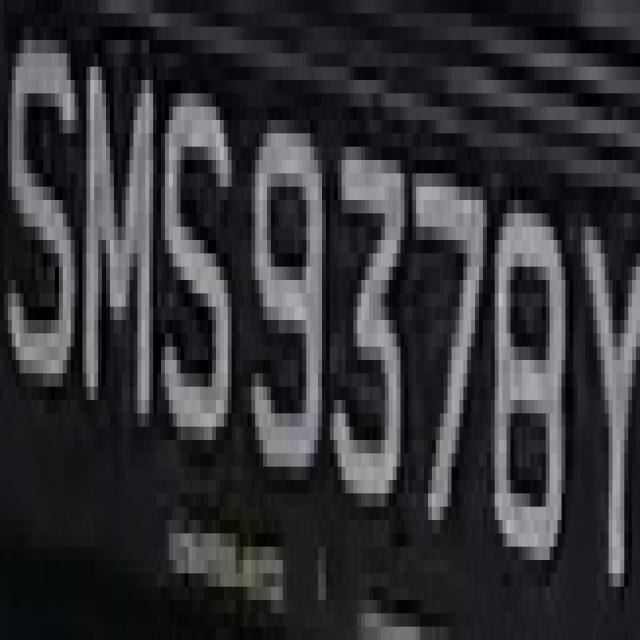3: (326, 80, 408, 520)
7: (400, 120, 487, 560)
8: (491, 147, 569, 613)
9: (240, 80, 334, 520)
M: (71, 40, 169, 453)
S: (157, 40, 236, 493), (8, 14, 78, 414)
Y: (573, 186, 640, 586)
